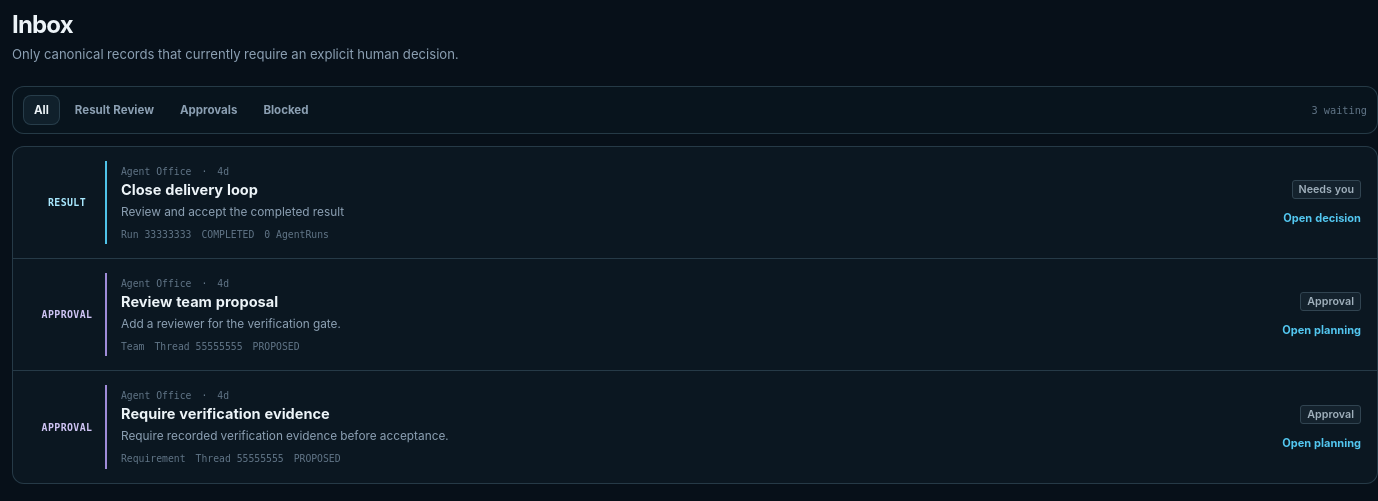
Scenario: DecisionCenterPage › projects proposed requirements and teams into Approvals without inventing activity
Expected: the heading "Require verification evidence" is shown, [121, 405, 330, 423]
Expected: the heading "Review team proposal" is shown, [121, 293, 278, 311]
What coordinates should you click on to do the following:
click the button "Approvals"
I would click on:
 (209, 110)
Its box is [169, 95, 248, 125].
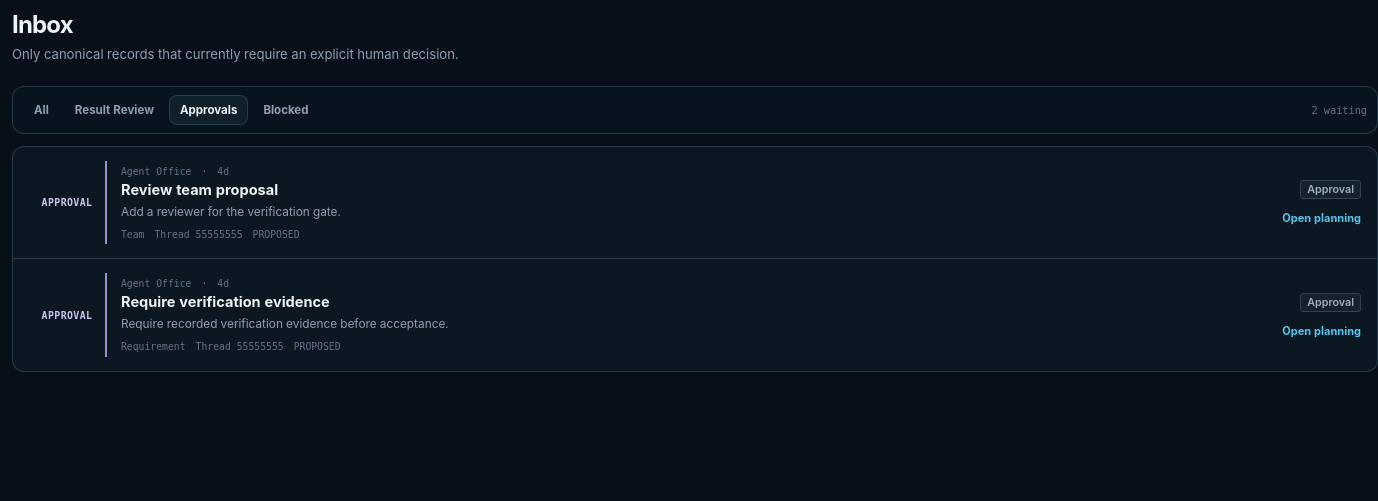
Expected: the heading "Require verification evidence" is shown, [121, 293, 330, 311]
Result: the heading "Close delivery loop" is gone
